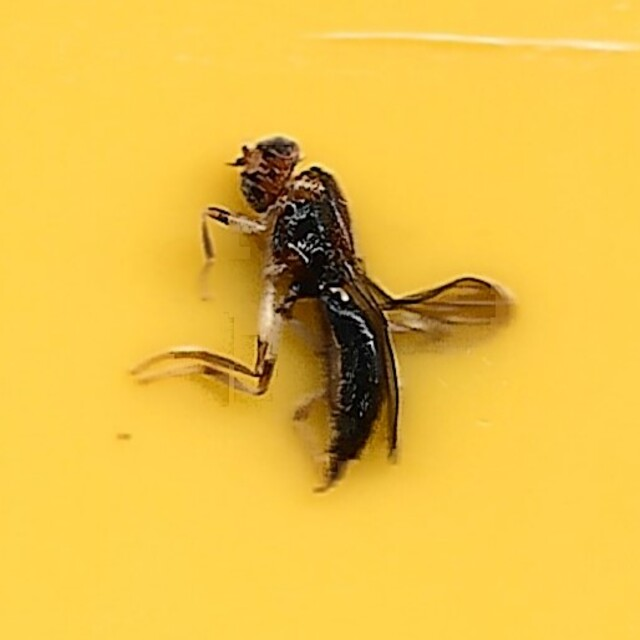Brachycera: (125, 136, 515, 504)
